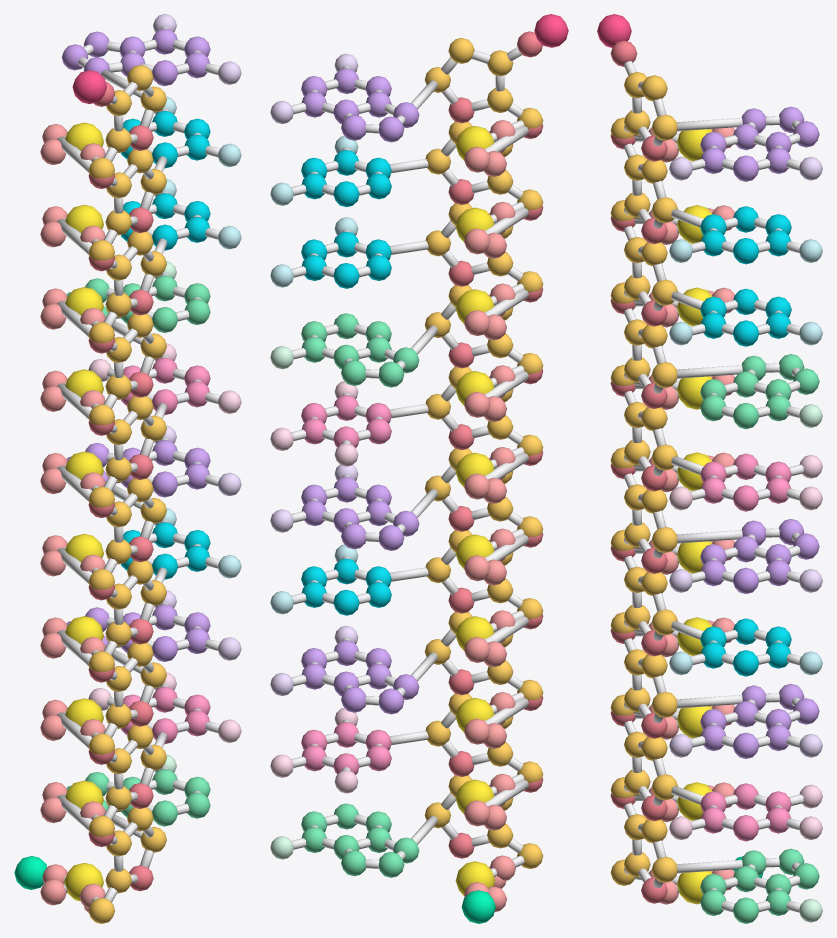
The model's file is Strand_A.glb.
3 views of the same model, side by side, from view 1: azimuth 30°, elevation 25°; view 2: azimuth 150°, elevation 25°; view 3: azimuth 270°, elevation 25° (orthographic).
Visible parts, largest first — view 1: A_Base_10_G_Ring, A_Base_07_A_Ring, A_Base_01_A_Ring, A_Base_03_G_Ring, A_Base_05_G_Ring, A_Sugar_01_Carbon, A_Sugar_10_Carbon, A_Sugar_09_Carbon, A_Sugar_05_Carbon, A_Sugar_08_Carbon, A_Sugar_04_Carbon, A_Sugar_02_Carbon (+68 smaller); view 2: A_Base_05_G_Ring, A_Base_01_A_Ring, A_Base_03_G_Ring, A_Base_07_A_Ring, A_Base_10_G_Ring, A_Base_08_C_Ring, A_Base_04_C_Ring, A_Base_09_C_Ring, A_Base_02_T_Ring, A_Base_06_T_Ring, A_Sugar_10_Carbon, A_Sugar_01_Carbon (+68 smaller); view 3: A_Base_07_A_Ring, A_Base_01_A_Ring, A_Base_05_G_Ring, A_Base_10_G_Ring, A_Base_03_G_Ring, A_Base_02_T_Ring, A_Base_04_C_Ring, A_Base_09_C_Ring, A_Base_06_T_Ring, A_Base_08_C_Ring, A_Sugar_01_Carbon, A_Sugar_10_Carbon (+62 smaller).
Part boxes in pixels (x1,y1,x2,y2): A_Base_10_G_Ring: (61, 28, 210, 86); A_Base_07_A_Ring: (67, 275, 210, 332); A_Base_01_A_Ring: (67, 769, 210, 826); A_Base_03_G_Ring: (67, 604, 210, 661); A_Base_05_G_Ring: (67, 440, 210, 497); A_Sugar_01_Carbon: (88, 807, 166, 923); A_Sugar_10_Carbon: (88, 65, 166, 178); A_Sugar_09_Carbon: (88, 149, 166, 260); A_Sugar_05_Carbon: (88, 478, 166, 590); A_Sugar_08_Carbon: (88, 231, 166, 343); A_Sugar_04_Carbon: (88, 560, 166, 671); A_Sugar_02_Carbon: (88, 725, 166, 837); A_Base_05_G_Ring: (301, 476, 419, 550); A_Base_01_A_Ring: (301, 803, 419, 877); A_Base_03_G_Ring: (301, 640, 419, 714); A_Base_07_A_Ring: (301, 313, 419, 387); A_Base_10_G_Ring: (301, 68, 419, 142); A_Base_08_C_Ring: (301, 231, 391, 288); A_Base_04_C_Ring: (301, 558, 391, 615); A_Base_09_C_Ring: (301, 150, 391, 206); A_Base_02_T_Ring: (301, 722, 391, 774); A_Base_06_T_Ring: (301, 395, 391, 447); A_Sugar_10_Carbon: (424, 38, 543, 129); A_Sugar_01_Carbon: (424, 775, 543, 868); A_Base_07_A_Ring: (700, 354, 819, 429); A_Base_01_A_Ring: (700, 848, 819, 923); A_Base_05_G_Ring: (700, 519, 819, 593); A_Base_10_G_Ring: (700, 106, 819, 181); A_Base_03_G_Ring: (700, 684, 819, 758); A_Base_02_T_Ring: (700, 783, 791, 841); A_Base_04_C_Ring: (700, 618, 791, 676); A_Base_09_C_Ring: (700, 206, 791, 264); A_Base_06_T_Ring: (700, 453, 791, 511); A_Base_08_C_Ring: (700, 288, 791, 346); A_Sugar_01_Carbon: (610, 814, 677, 885); A_Sugar_10_Carbon: (610, 72, 677, 140).
Size of the model in its own units: 0.0864 by 0.3597 by 0.0844.
